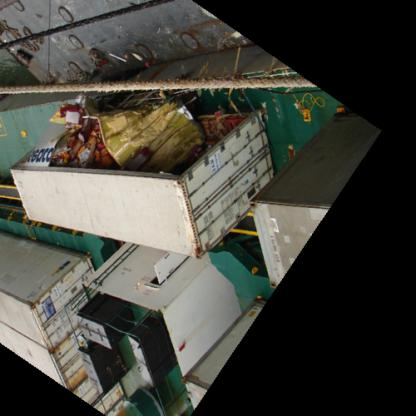Damage: (9, 69, 250, 202)
